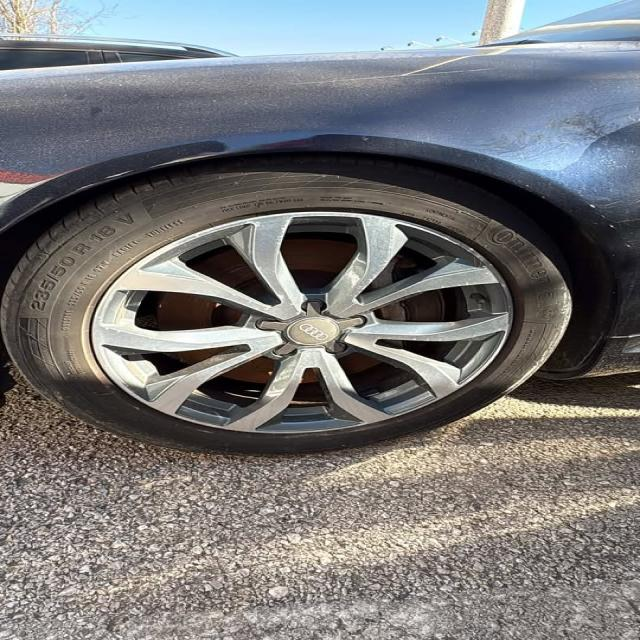jante: (89, 211, 516, 434)
roda: (0, 157, 574, 454)
